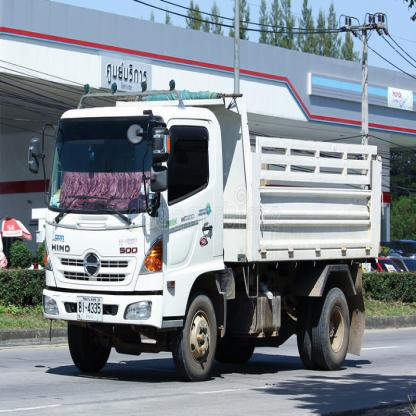dump_truck: (28, 78, 387, 393)
